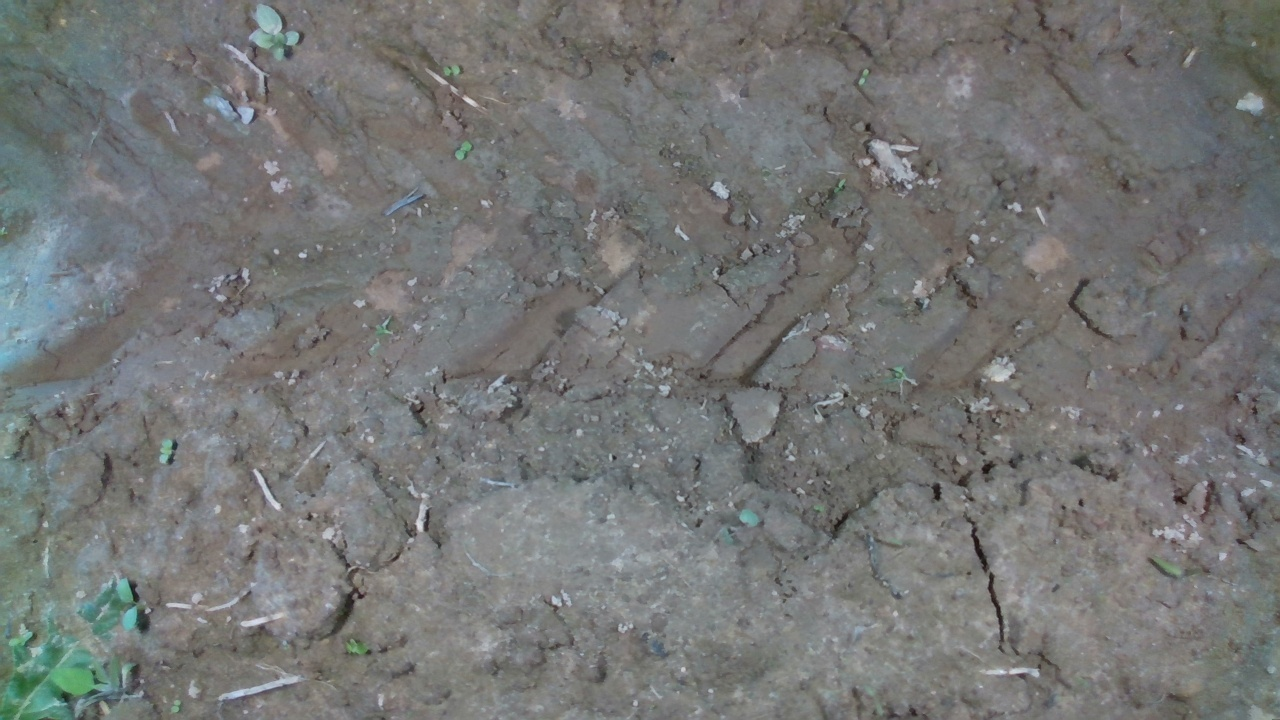weed: (157, 436, 174, 467), (453, 138, 472, 161), (440, 63, 461, 77)
